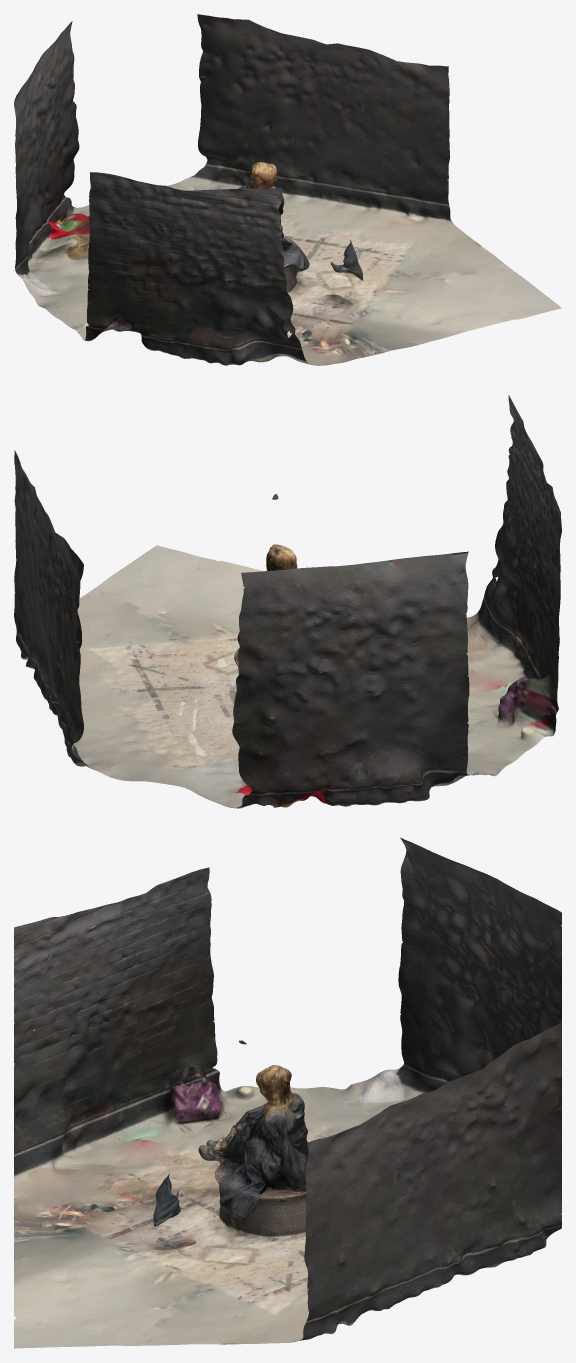
The picture shows the model from 3 angles, top to bottom: view 1: azimuth 30°, elevation 25°; view 2: azimuth 150°, elevation 25°; view 3: azimuth 270°, elevation 25°; orthographic projection. The views are drawn at different scales.
Parts seen in each view (by area): view 1: mesh_0; view 2: mesh_0; view 3: mesh_0.
Part boxes in pixels (box(x1,y1,x2,y2)): mesh_0: box(14, 14, 561, 365); mesh_0: box(14, 395, 561, 808); mesh_0: box(14, 837, 561, 1348).
Size of the model in its own units: 2.83 by 1.38 by 2.61.
Materials: 1 (1 with a texture image).
